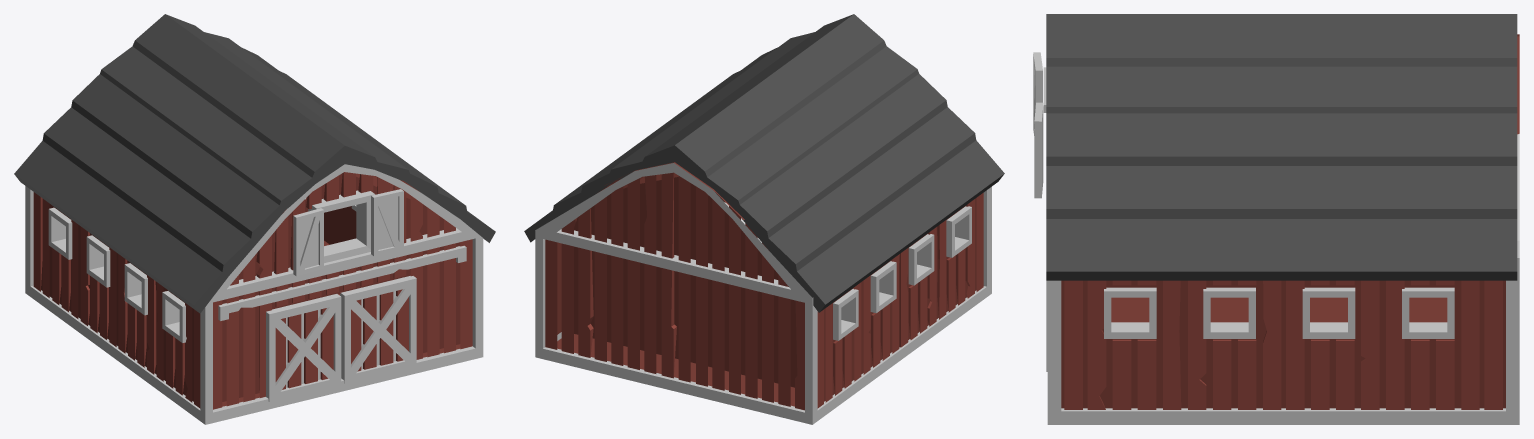
The model's file is barn.lod.glb.
3 views of the same model, side by side, from view 1: azimuth 30°, elevation 25°; view 2: azimuth 150°, elevation 25°; view 3: azimuth 270°, elevation 25° (orthographic). The views are drawn at different scales.
Visible parts, largest first — view 1: Barn_Cube.005; view 2: Barn_Cube.005; view 3: Barn_Cube.005.
Boxes of the visible parts, x1,y1,x2,y2 form: Barn_Cube.005: [14, 14, 495, 424]; Barn_Cube.005: [524, 14, 1004, 424]; Barn_Cube.005: [1033, 14, 1519, 424].
Size of the model in its own units: 7.73 by 6.01 by 8.22.
